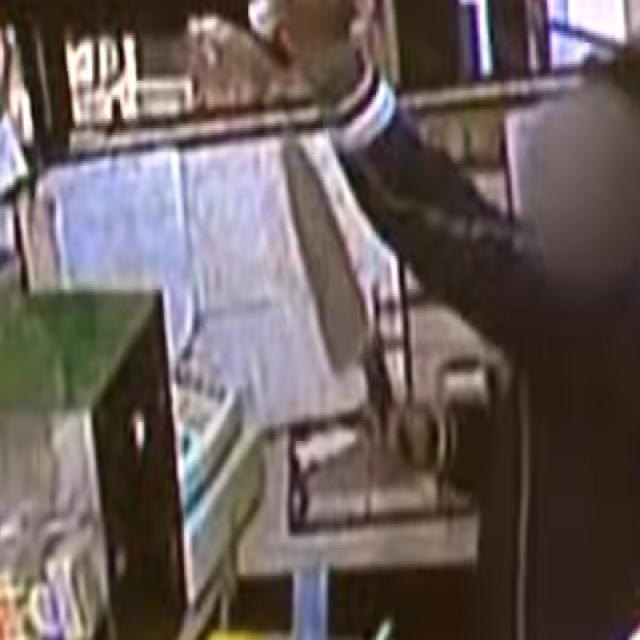Fknife: (275, 119, 403, 443)
